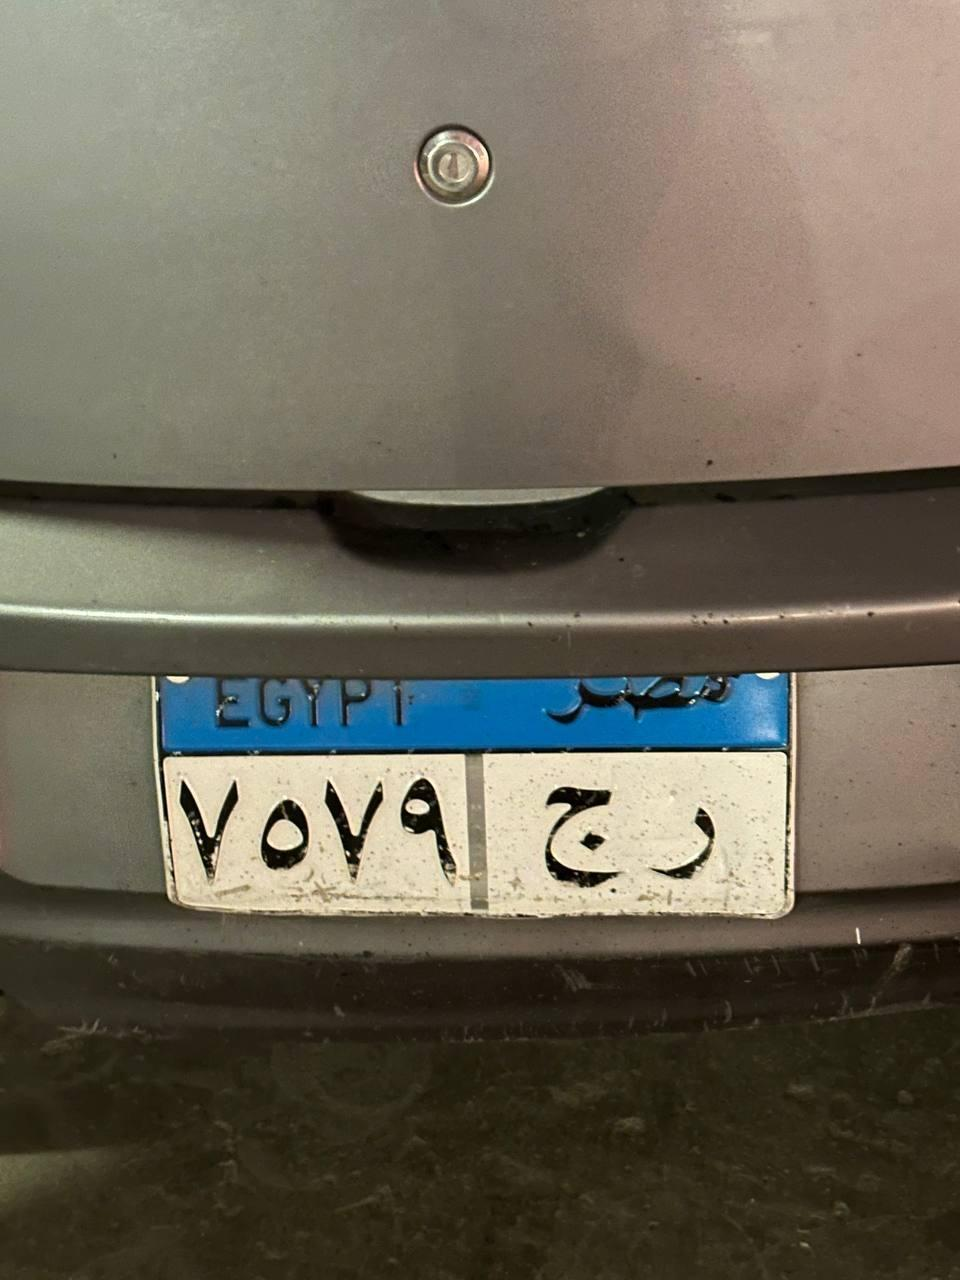5: (245, 788, 324, 880)
7: (170, 763, 250, 882), (320, 758, 381, 866)
9: (388, 773, 475, 894)
License Plate: (149, 671, 799, 922)
R: (655, 788, 734, 894)
geem: (546, 783, 633, 910)
